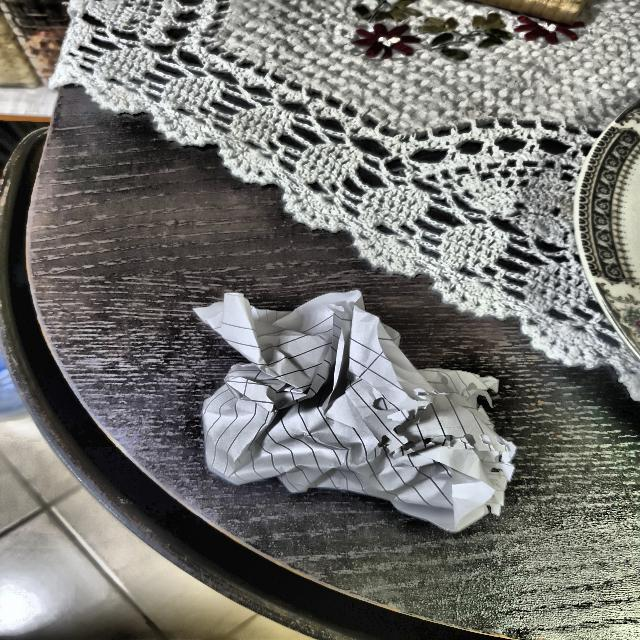Paper: (194, 286, 496, 539)
